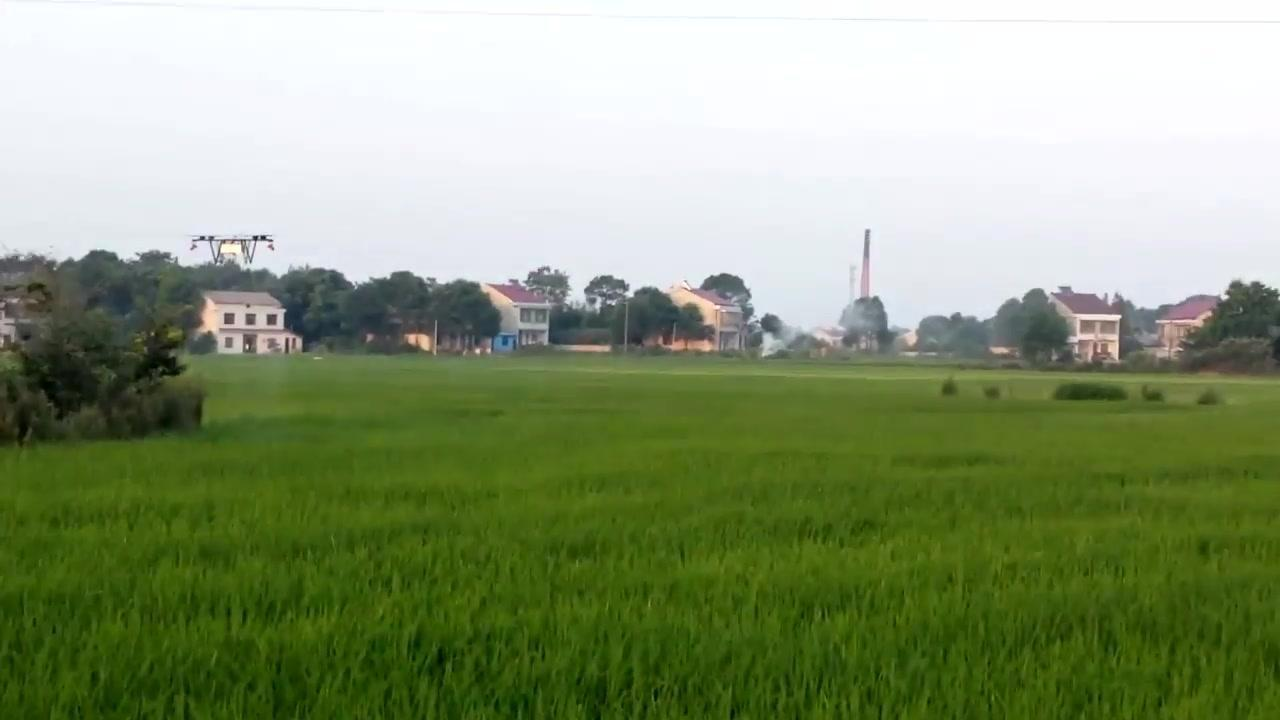UAV: (188, 235, 276, 266)
